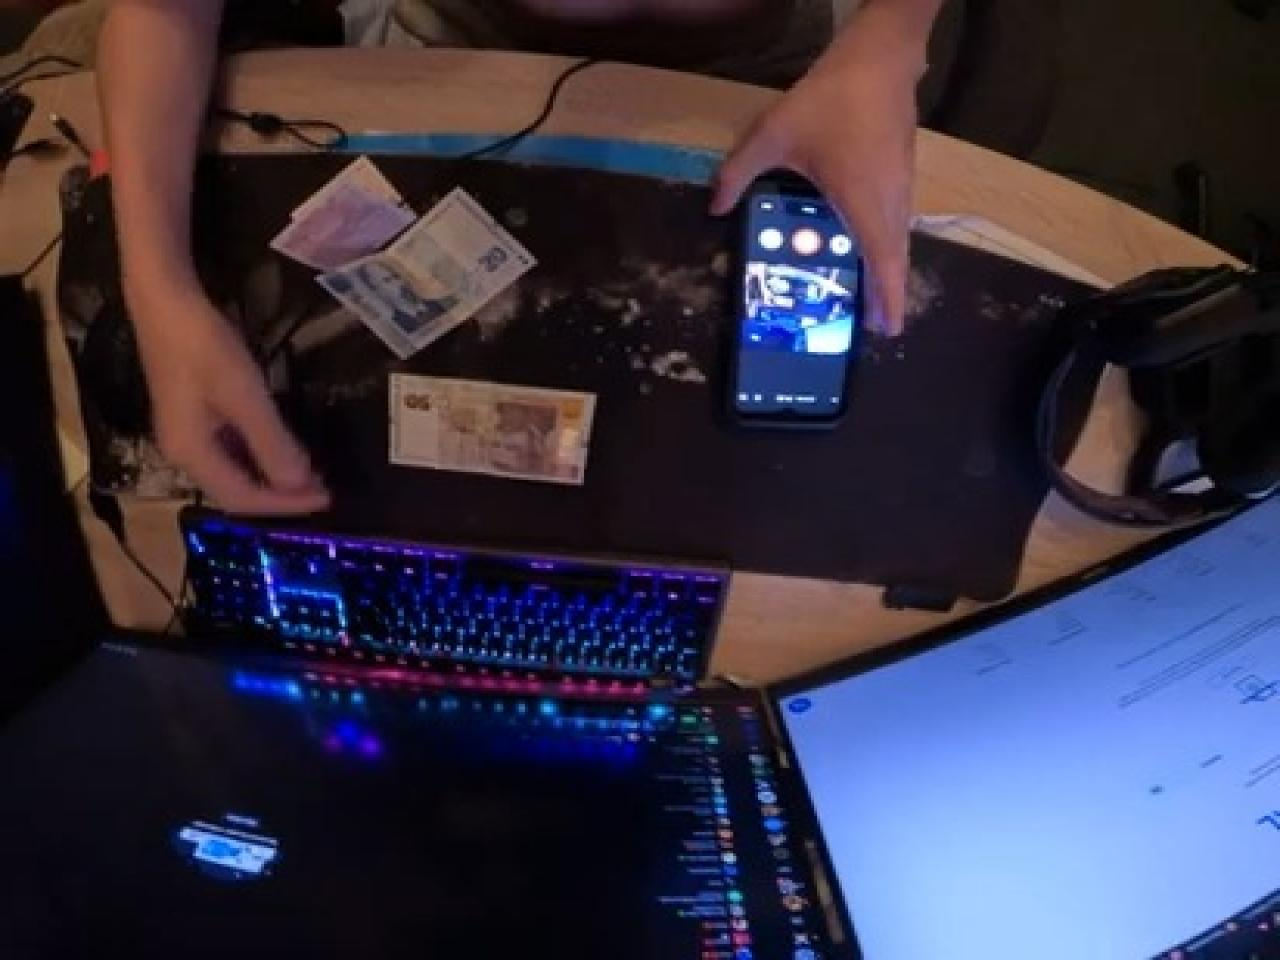20leva: (317, 189, 537, 359)
50leva: (391, 373, 594, 483)
5leva: (271, 156, 415, 269)
